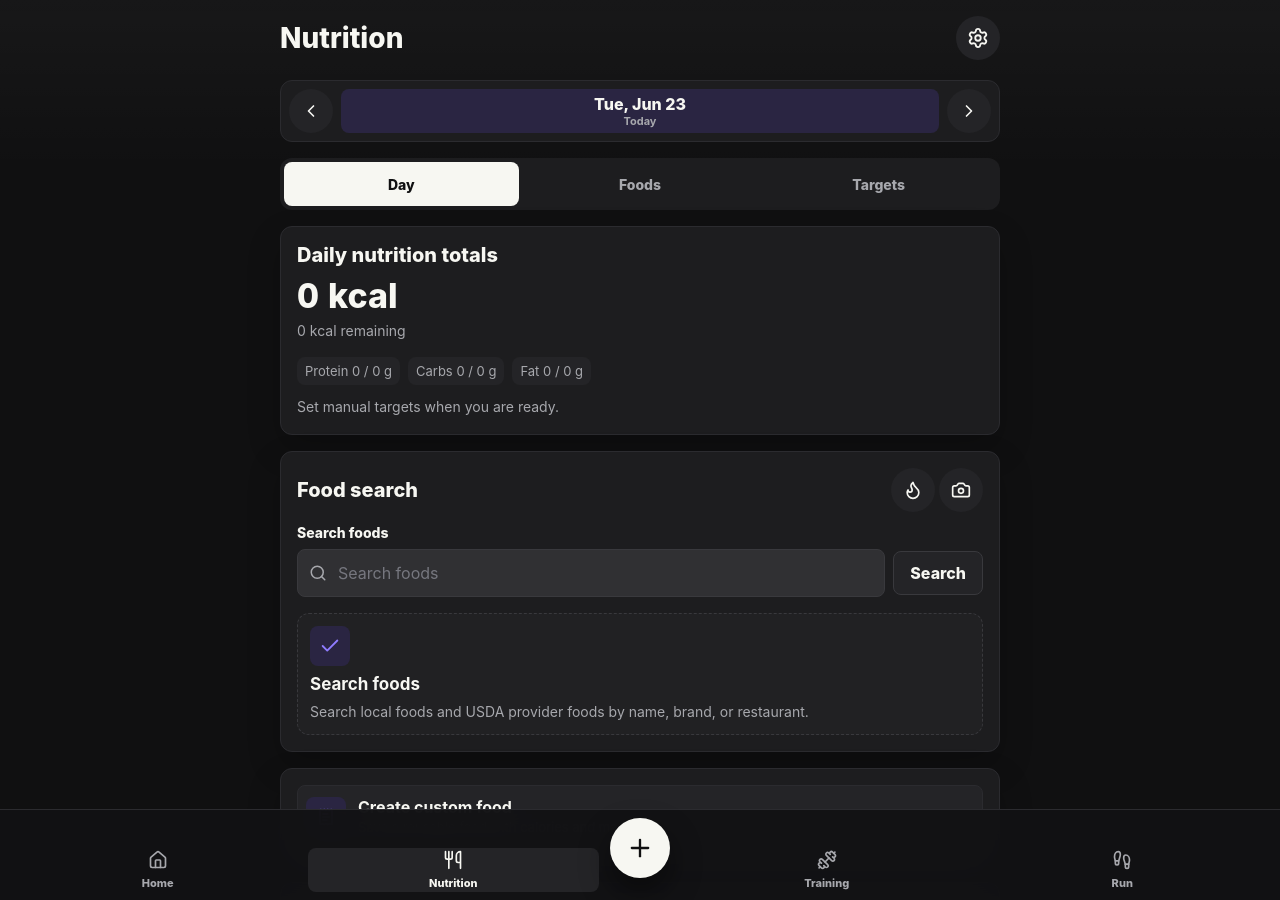
Test case: NutritionPage › searches with the server key when no user key is configured and surfaces a server missing-key response
The width and height of the screenshot is (1280, 900).
Type "rice" into the search field labelled "Search foods".
click(591, 573); type("rice")  # box [297, 549, 885, 597]
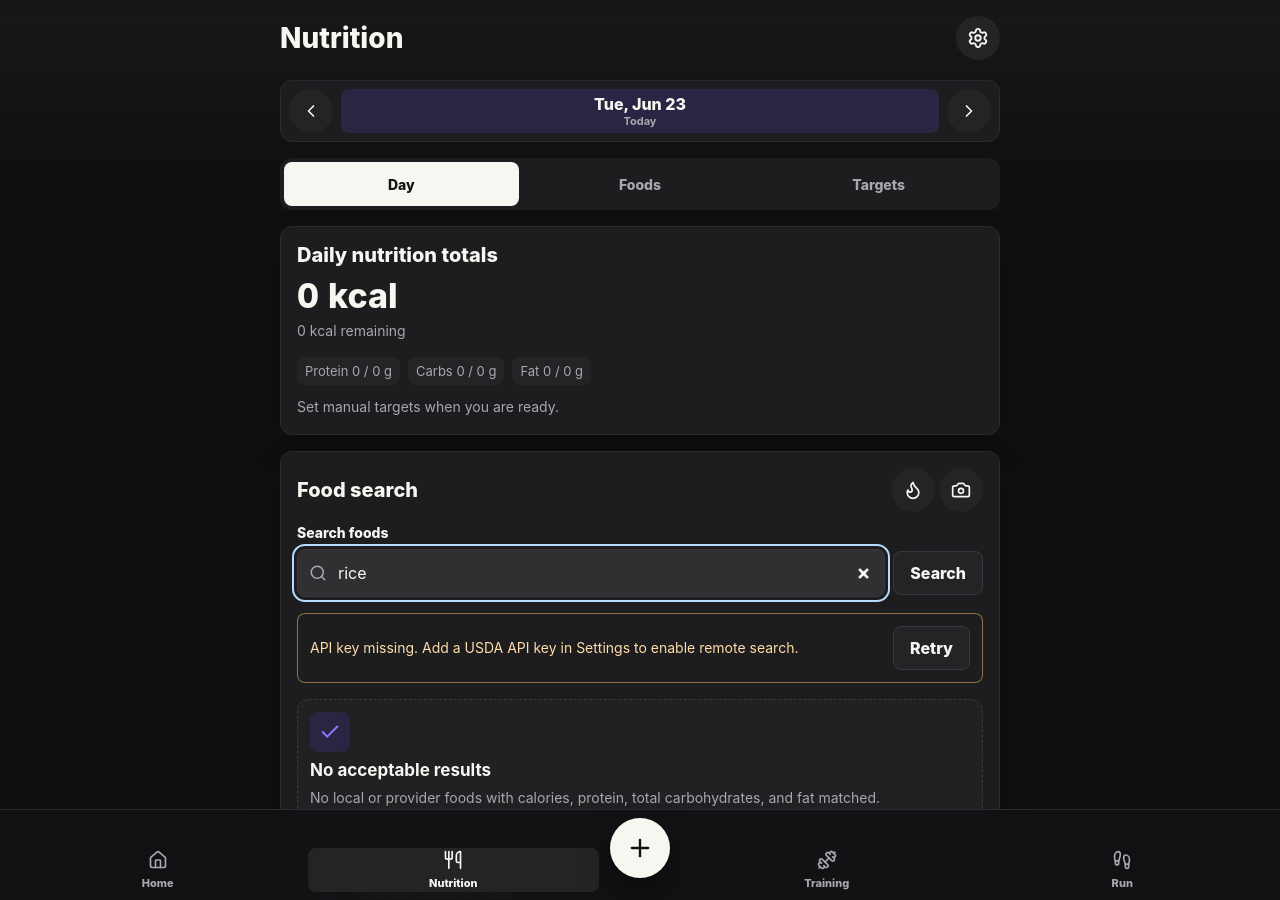
Expected: the text "API key missing" is shown, [310, 639, 798, 656]
